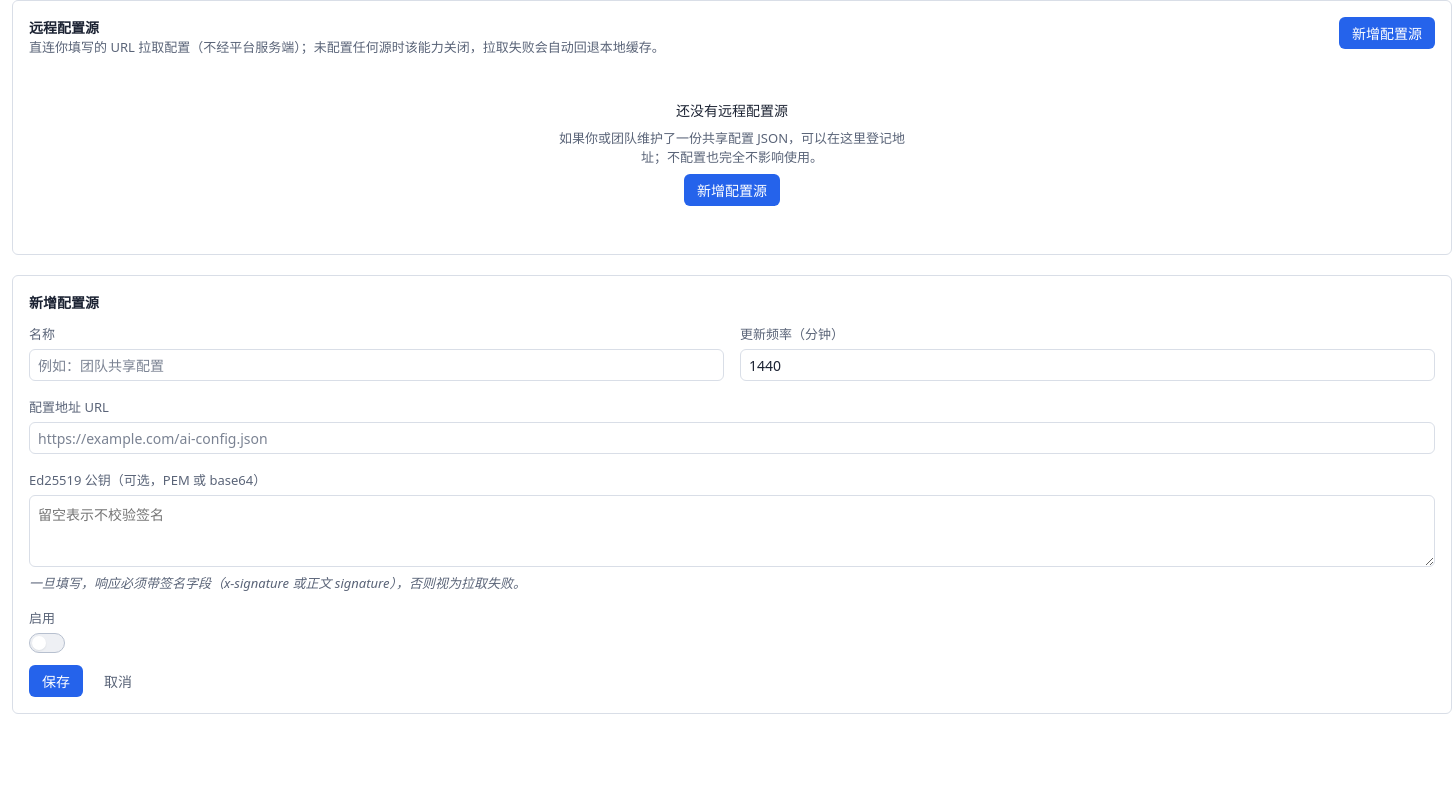
远程配置页 › 新增配置源 → 立即拉取 → 展示成功状态
Click the 1st button "新增配置源": (1387, 33) [1339,17,1435,49]
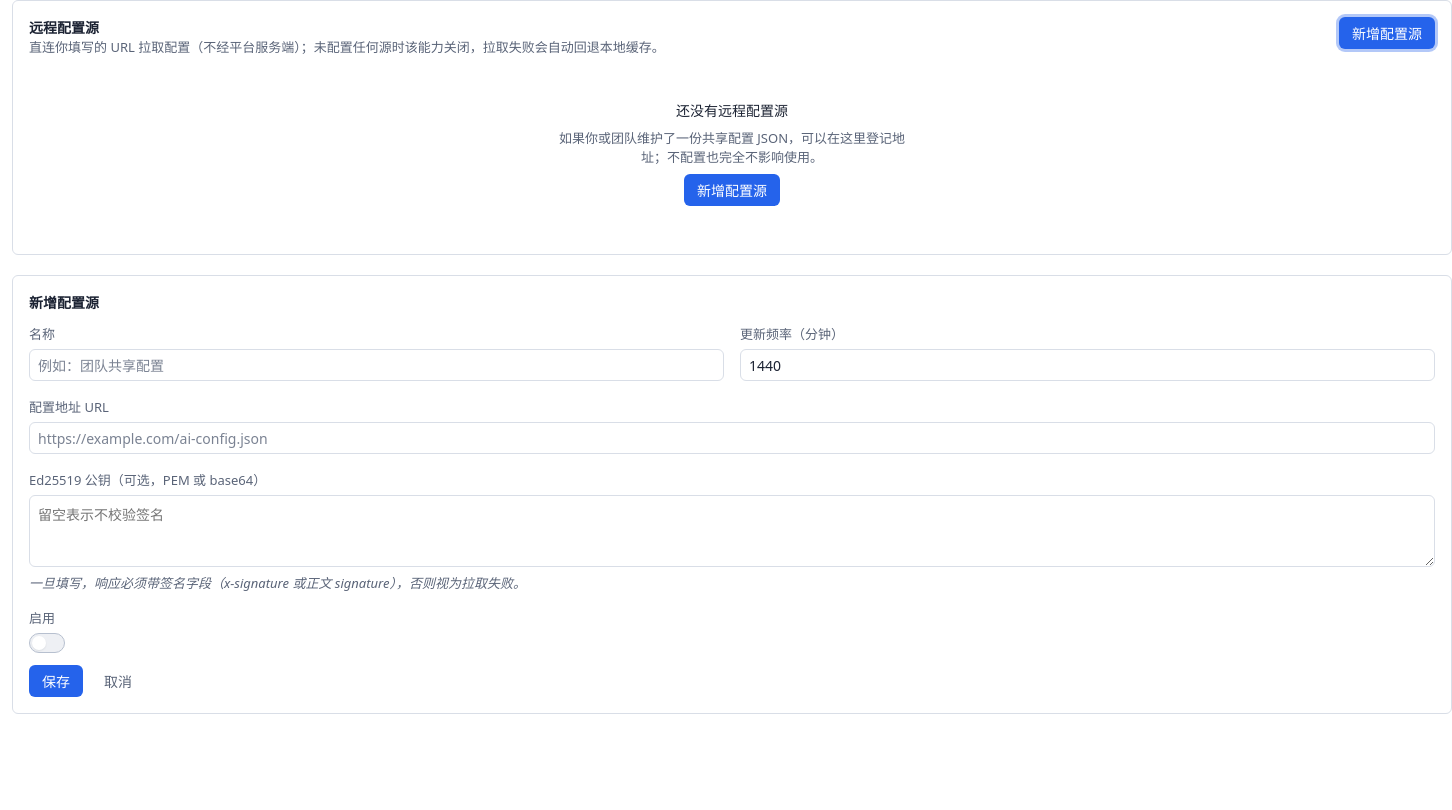
In the field with placeholder "例如：团队共享配置": (376, 365) [38,350,715,380], type "团队配置"
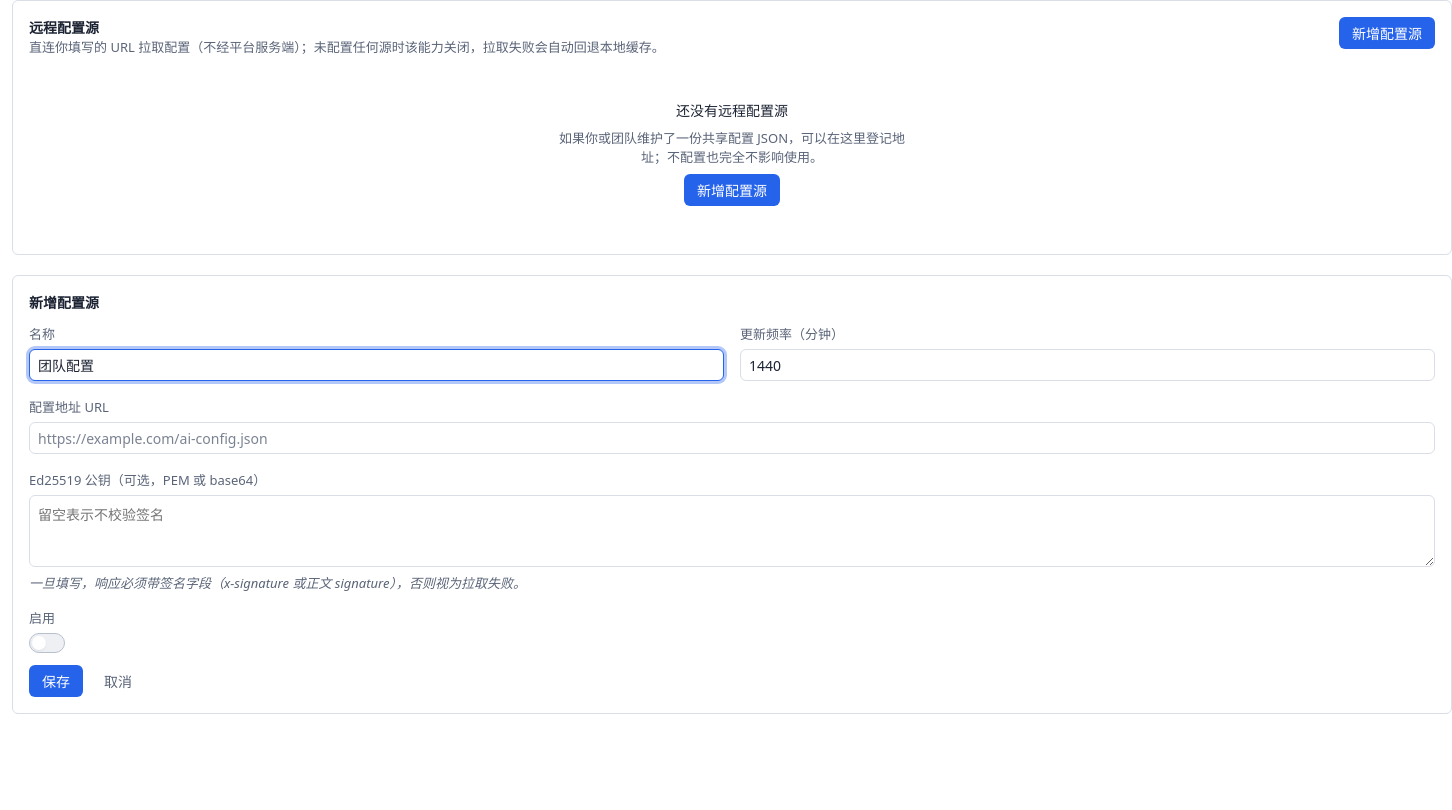
In the field with placeholder "https://example.com/ai-config.json": (732, 438) [38,423,1426,453], type "https://cfg.example.com/ai.json"
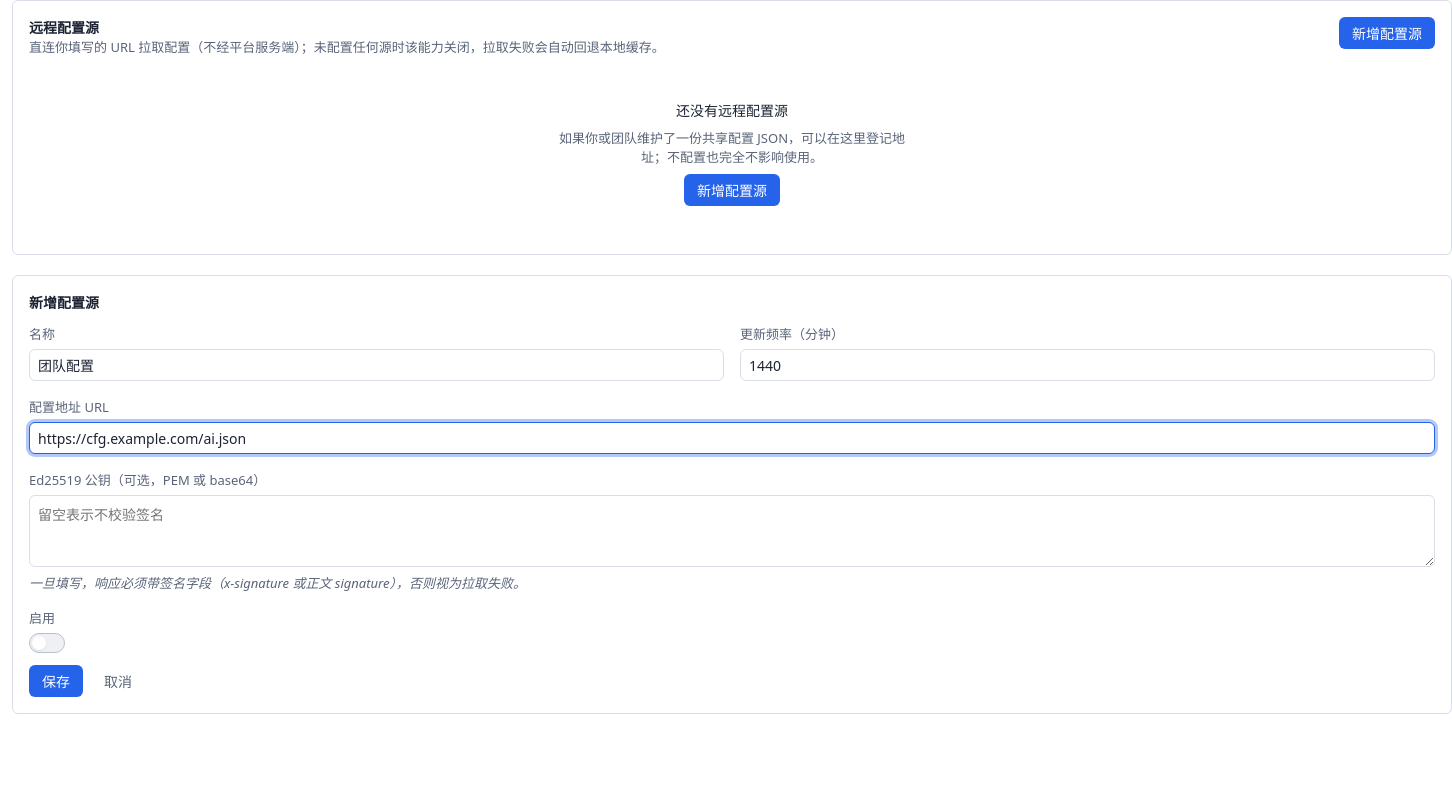
Click the button "保存": (56, 681) [29,665,83,697]
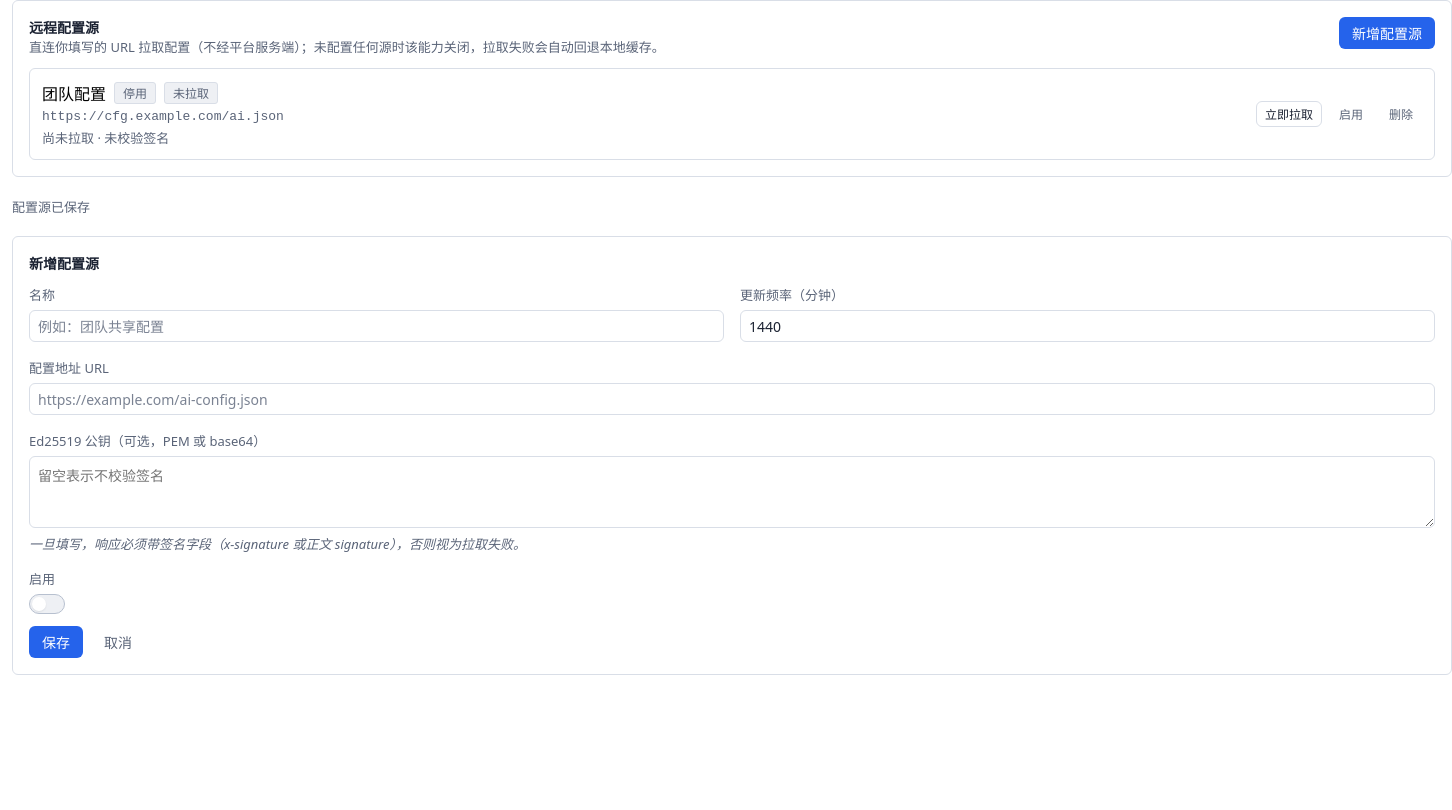
Click the button "立即拉取": (1289, 114) [1256,101,1322,127]
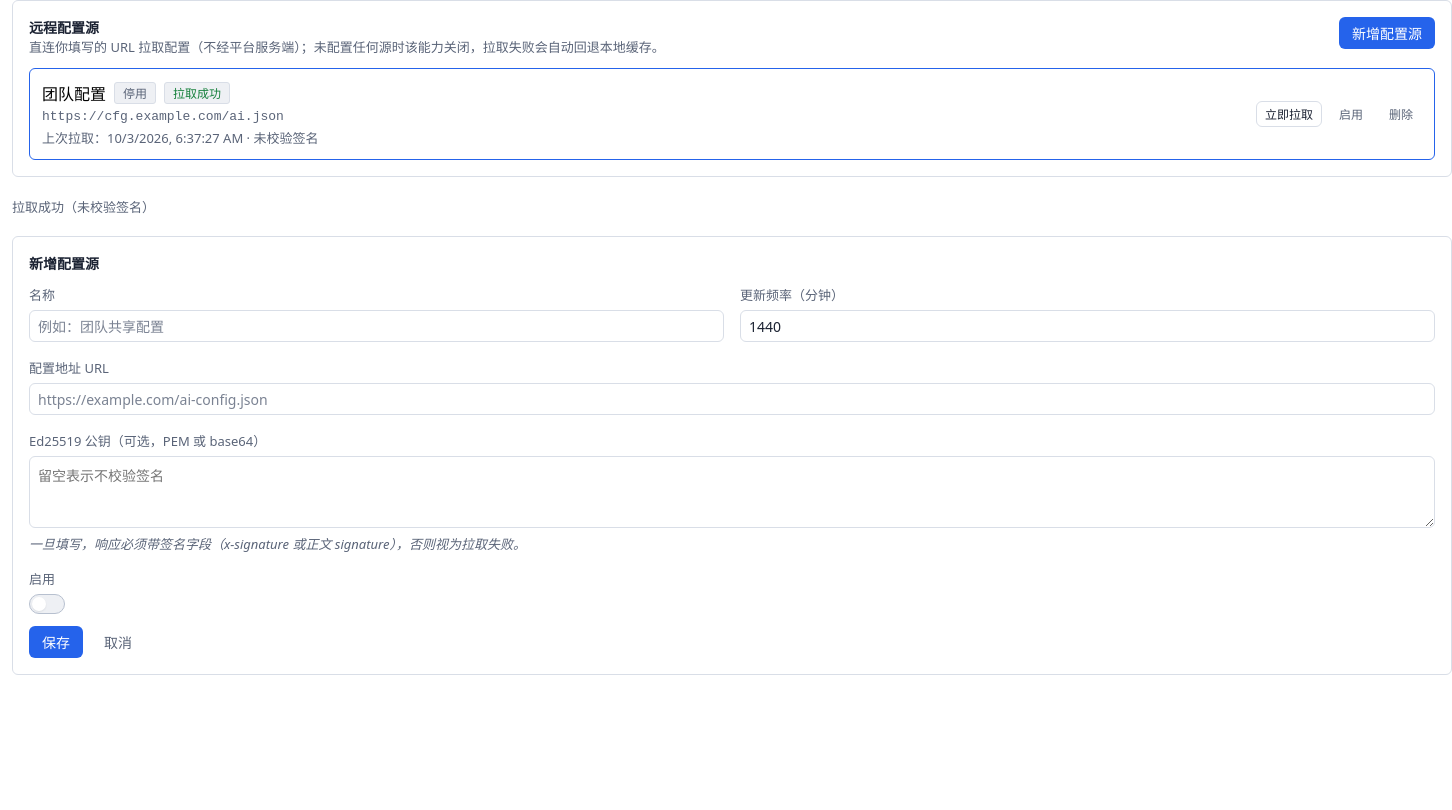
Expected: the text "拉取成功" is shown, [173,84,221,102]
